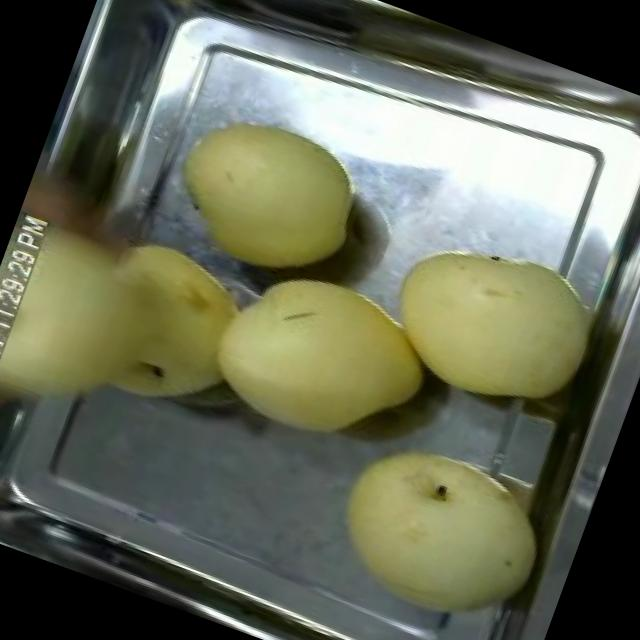Fruit: (187, 238, 457, 478), (358, 206, 620, 438), (306, 413, 570, 640), (136, 85, 383, 313)
